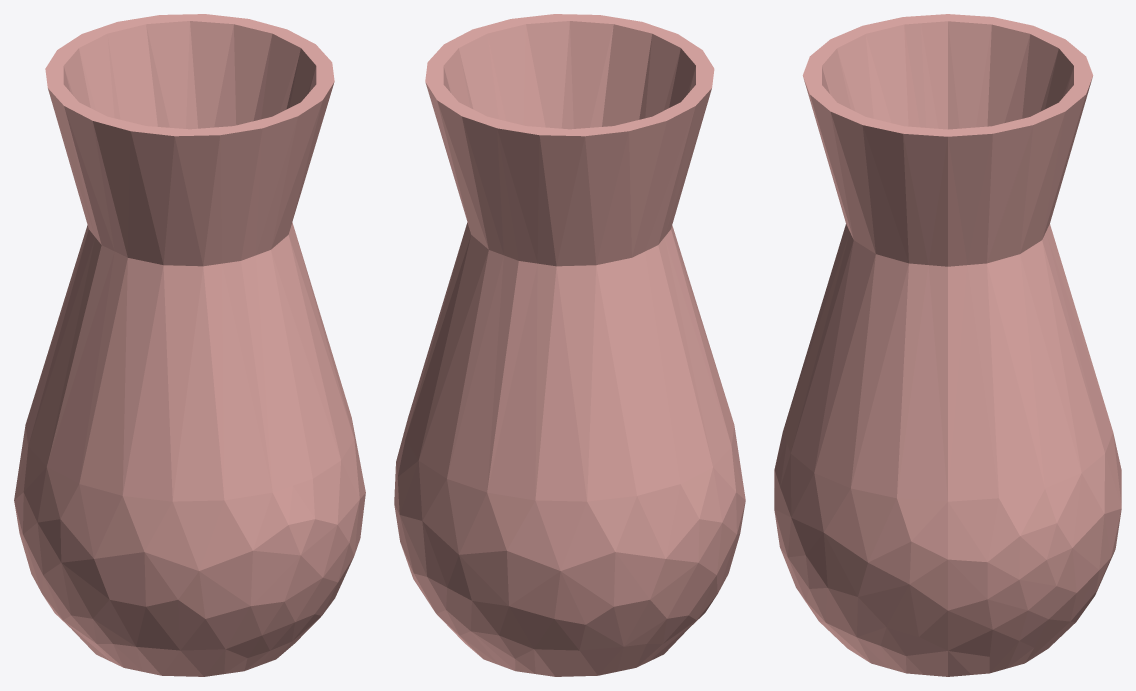
File: 3dExport_FlowerShop_Vase1.glb
The picture shows the model from 3 angles, left to right: view 1: azimuth 30°, elevation 25°; view 2: azimuth 150°, elevation 25°; view 3: azimuth 270°, elevation 25°; orthographic projection.
Parts seen in each view (by area): view 1: Revolution <1222742 Revolve<; view 2: Revolution <1222742 Revolve<; view 3: Revolution <1222742 Revolve<.
Part boxes in pixels (box(x1,y1,x2,y2)): Revolution <1222742 Revolve<: box(14, 14, 365, 676); Revolution <1222742 Revolve<: box(394, 14, 745, 676); Revolution <1222742 Revolve<: box(774, 14, 1121, 676).
Size of the model in its own units: 0.8503 by 1.48 by 0.8401.
